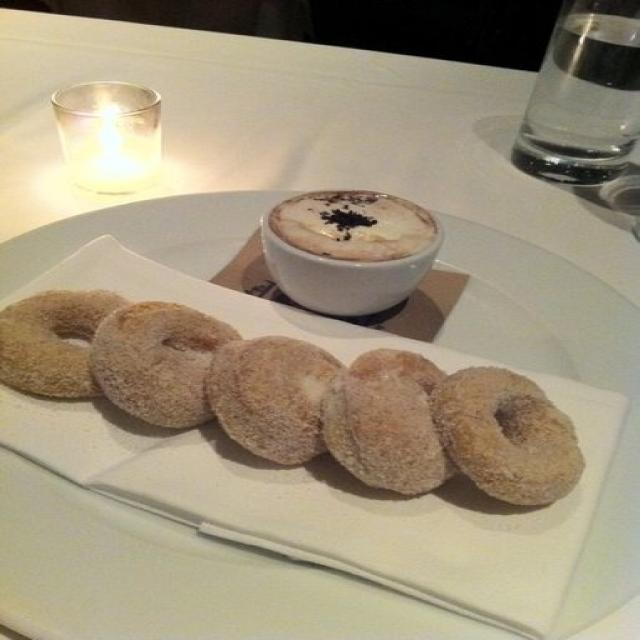Donuts: (4, 279, 629, 567)
